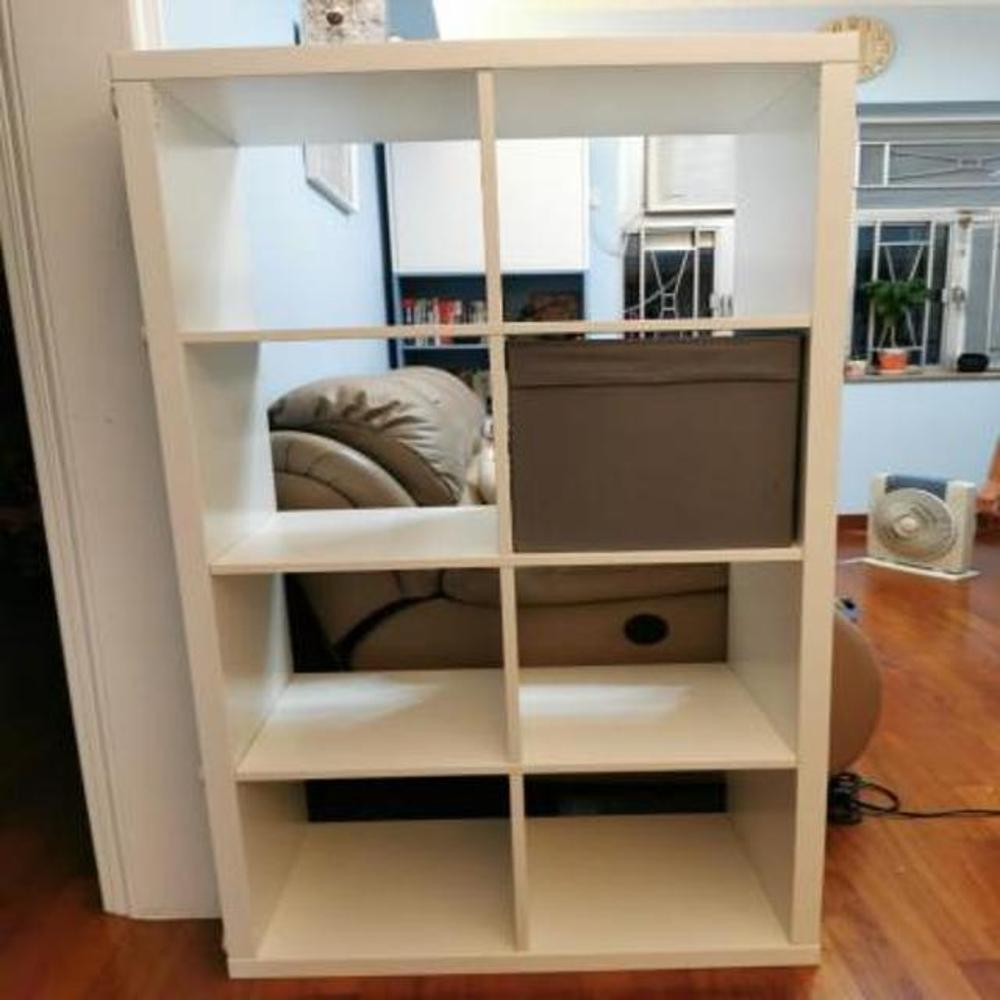lamp: (106, 28, 862, 984)
